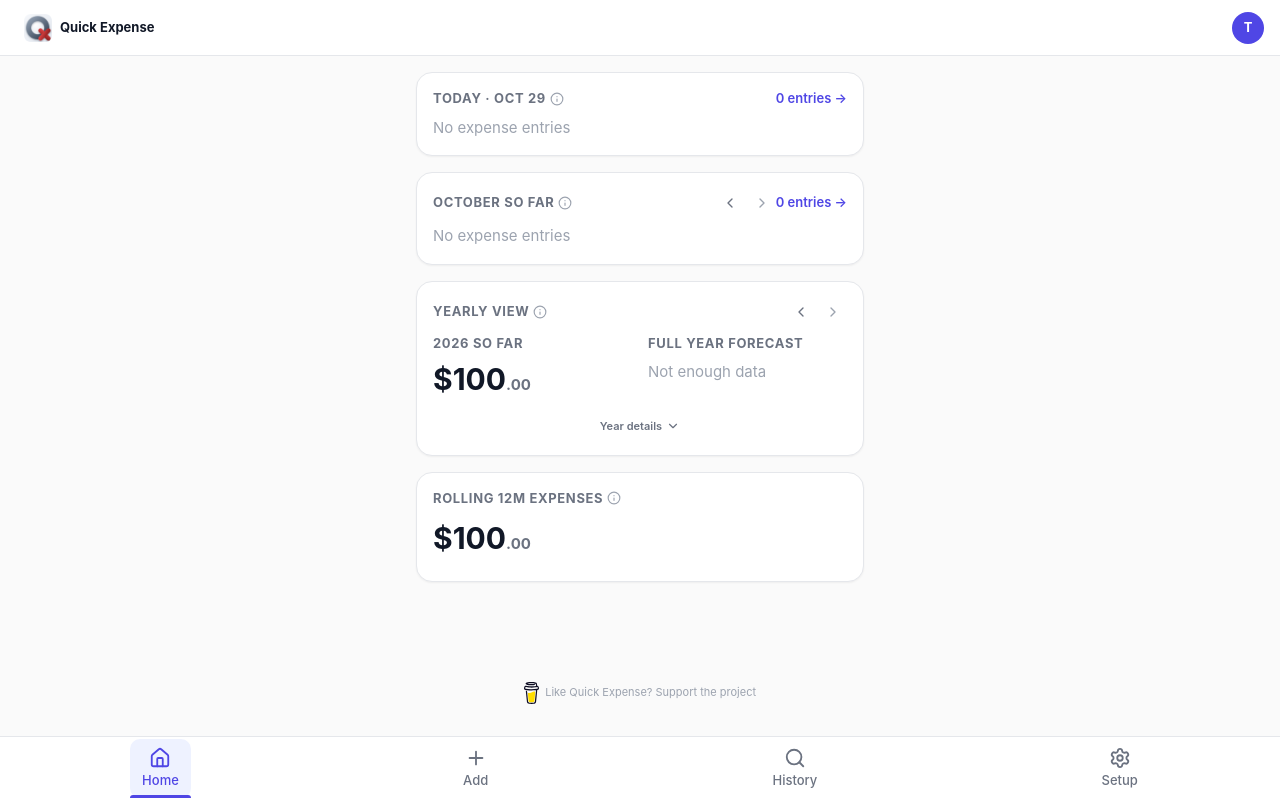
Test: HomePage — Year details expand › hides the Year details toggle once a past year is confirmed to have zero records
Expected: the button "Year details" is shown, [433,414,847,438]
Click the button named "Previous year": {"x": 801, "y": 312} [787,298,815,326]
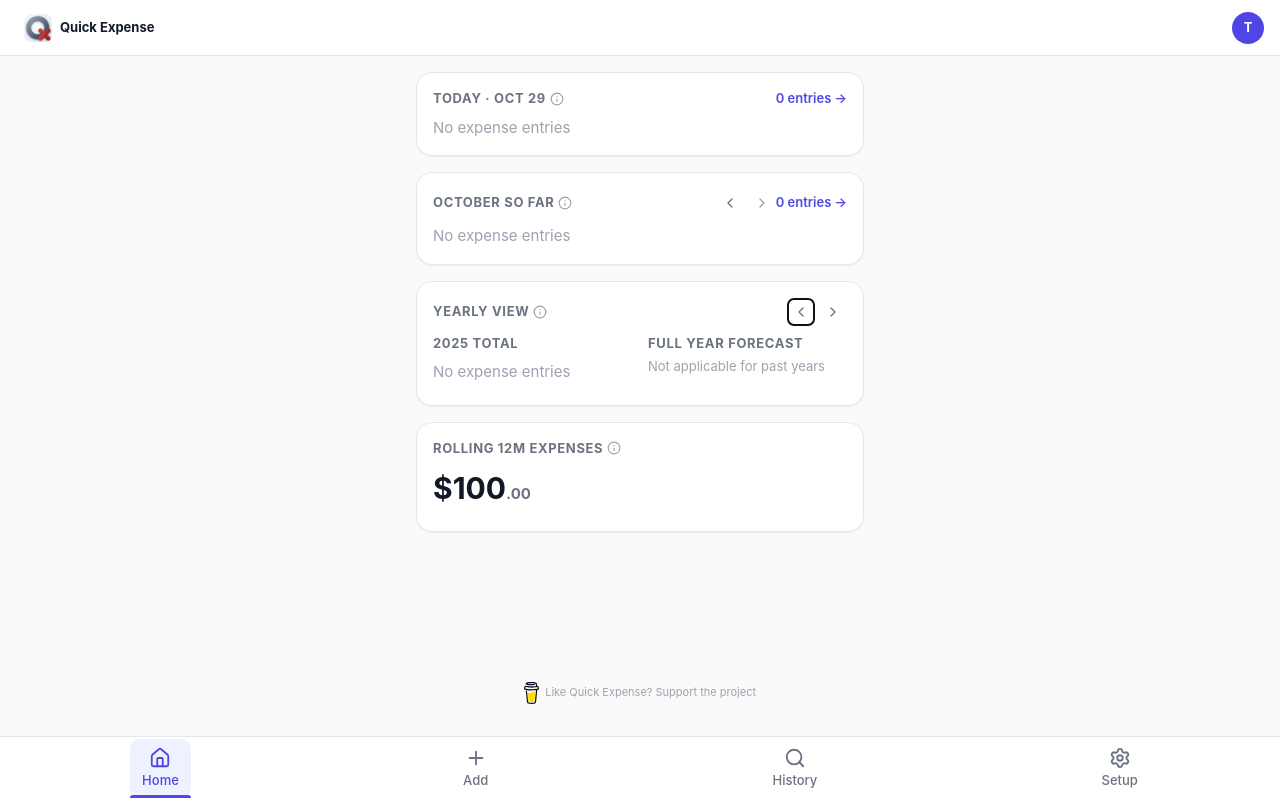
Expected: the button "Year details" is gone
